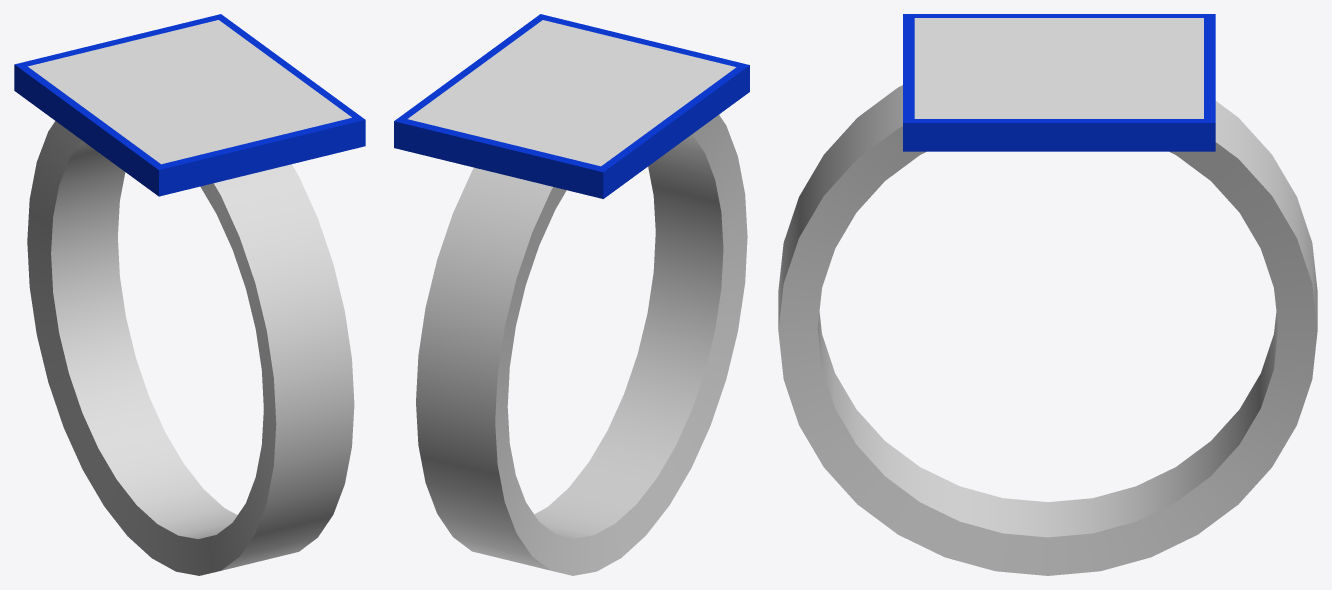
File: Watch.fbx
3 views of the same model, side by side, from view 1: azimuth 30°, elevation 25°; view 2: azimuth 150°, elevation 25°; view 3: azimuth 270°, elevation 25° (orthographic). The views are drawn at different scales.
Parts seen in each view (by area): view 1: Cylinder; view 2: Cylinder; view 3: Cylinder.
Boxes of the visible parts, <box> form: Cylinder: <box>14,14,365,575</box>; Cylinder: <box>394,14,749,575</box>; Cylinder: <box>778,14,1317,575</box>.
Size of the model in its own units: 194 by 405 by 404.
